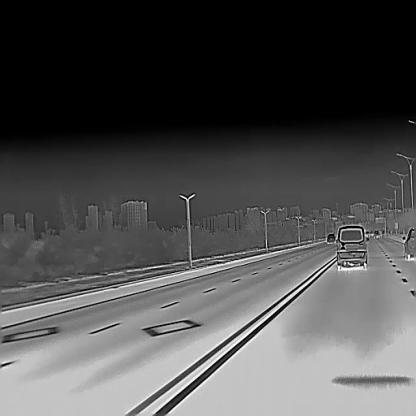car: (335, 222, 369, 269), (401, 227, 415, 259), (327, 232, 336, 242), (373, 228, 380, 236)
